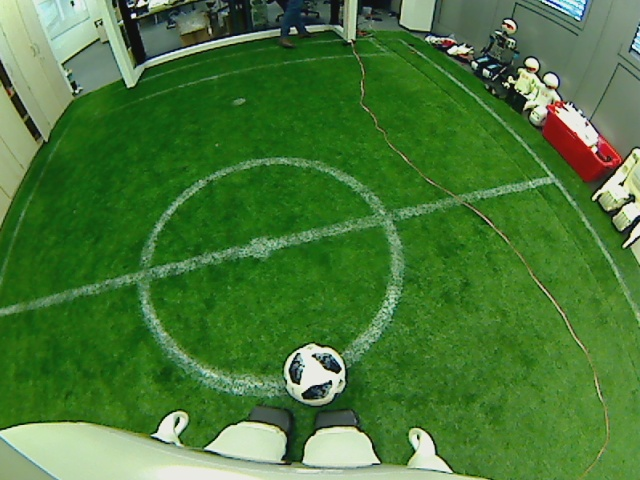ball: (282, 343, 347, 404)
